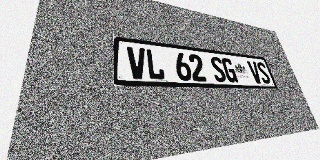2: (188, 54, 207, 81)
6: (173, 52, 193, 81)
G: (221, 58, 238, 83)
L: (145, 48, 165, 80)
S: (209, 56, 227, 82), (255, 62, 272, 84)
V: (127, 46, 147, 79), (247, 61, 263, 84)
